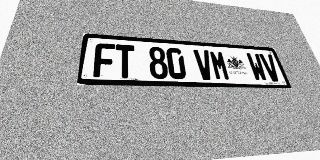0: (166, 47, 187, 79)
8: (148, 46, 169, 79)
F: (93, 43, 115, 78)
M: (209, 50, 231, 80)
T: (115, 44, 135, 78)
V: (193, 49, 215, 80), (259, 54, 282, 82)
W: (246, 53, 269, 81)
